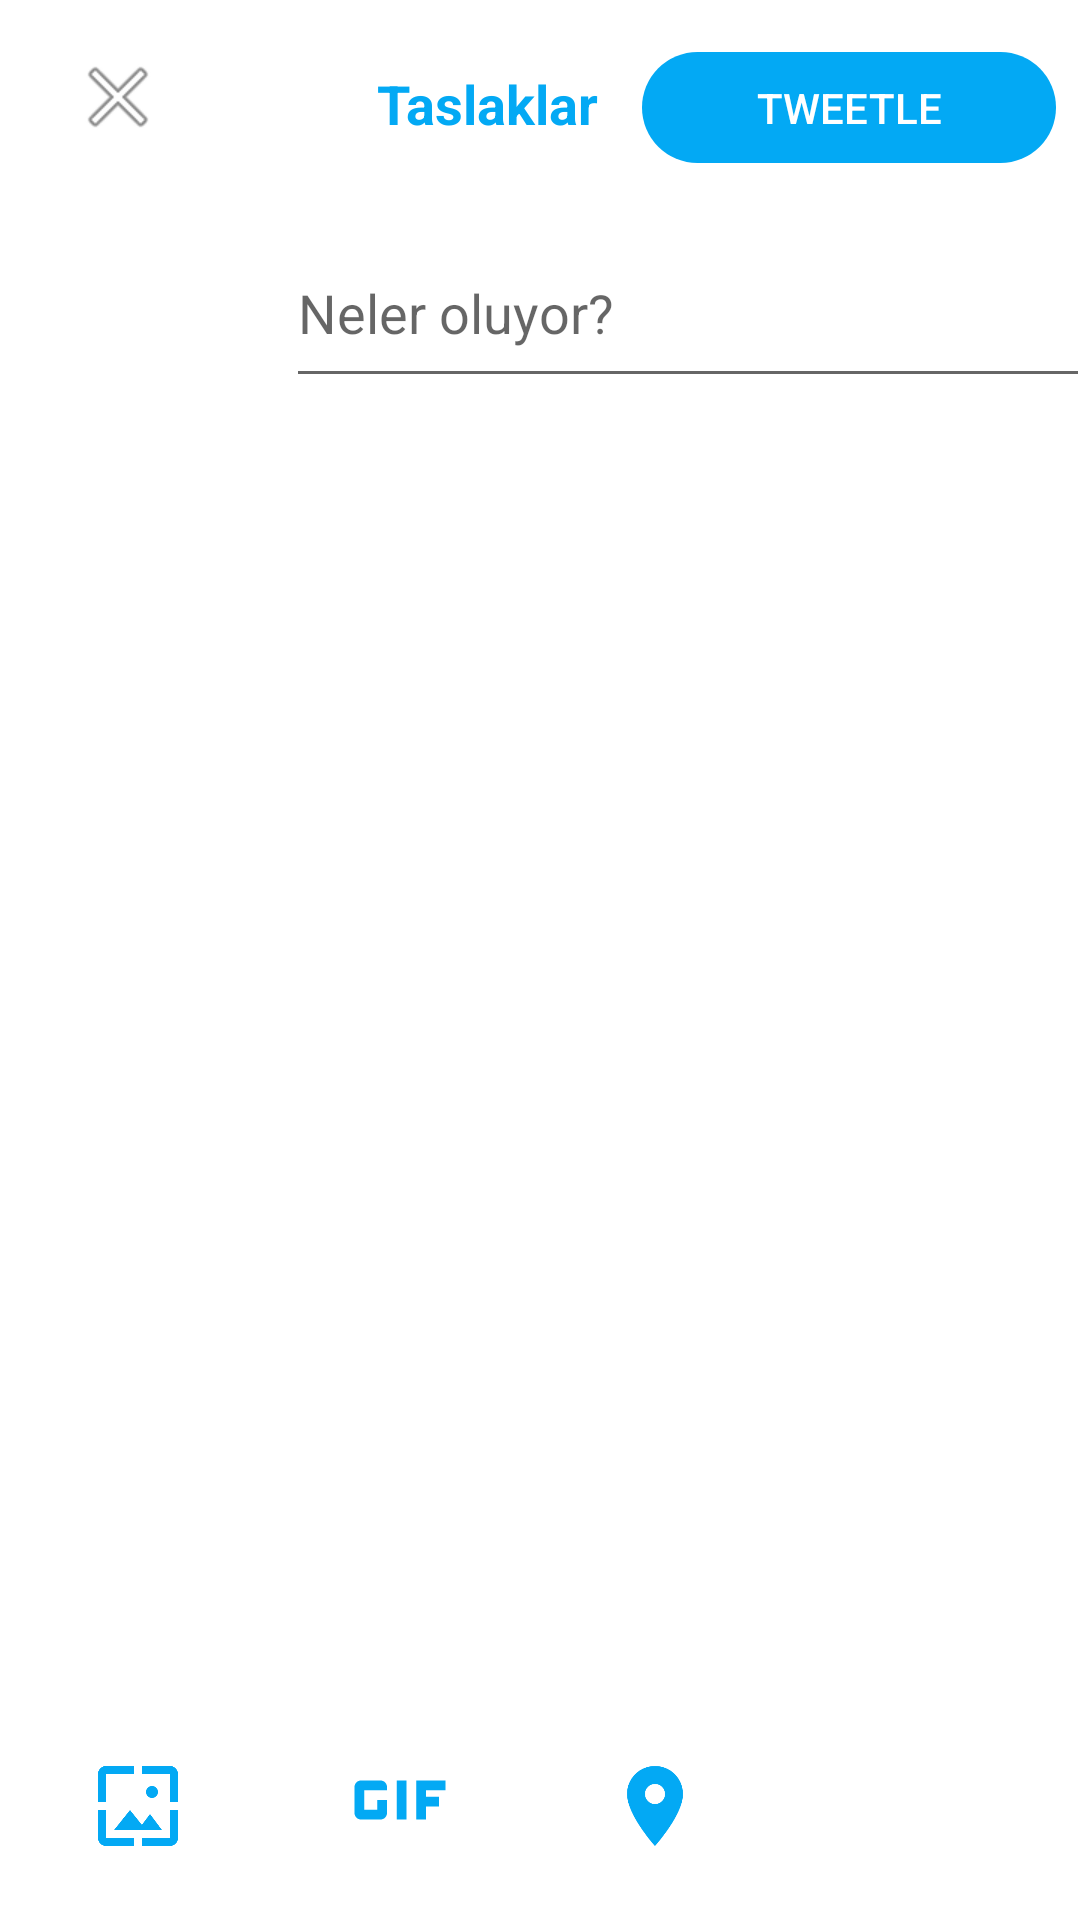

Screen size 1080px×1920px. Icon name, then its center in pixels as (x=x, y=y):
close clear cancel: (x=118, y=97)
location on: (x=655, y=1806)
